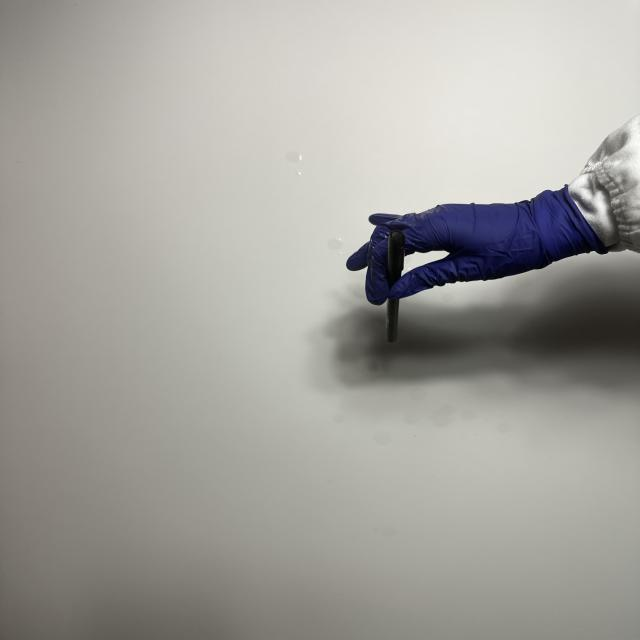gloves_contaminated: (347, 186, 606, 304)
